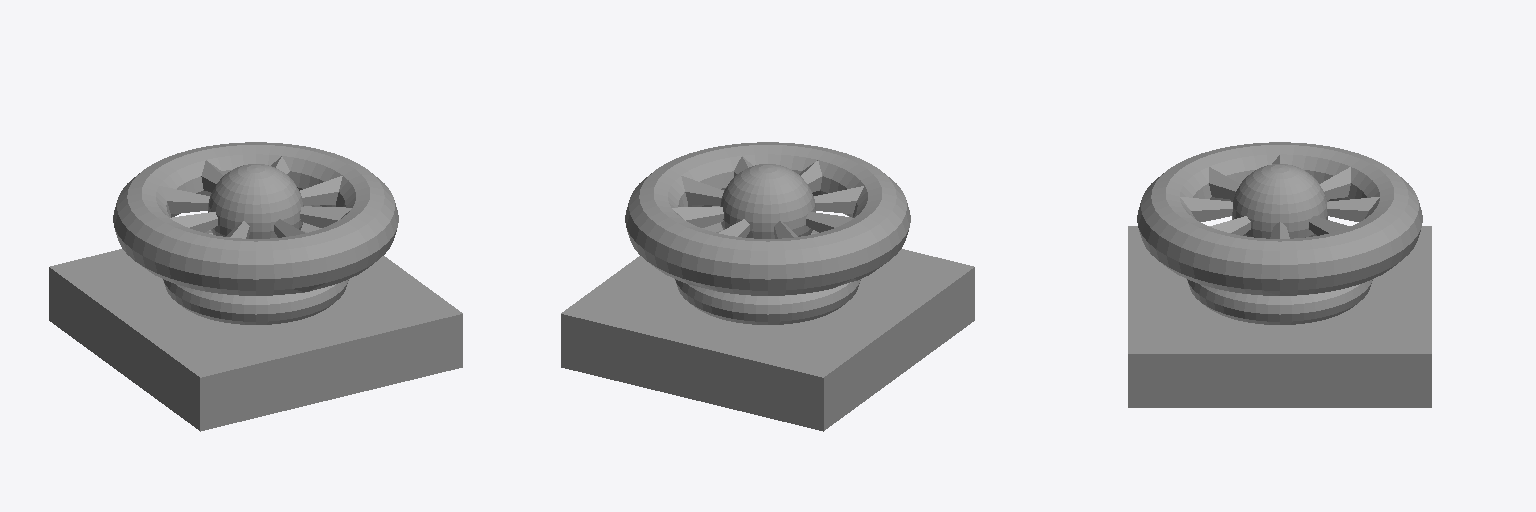
Rendered from fluid_ejector.obj.
3 renders of one model, left to right at view 1: azimuth 30°, elevation 25°; view 2: azimuth 150°, elevation 25°; view 3: azimuth 270°, elevation 25°, orthographic.
Visible parts, largest first — view 1: Cube_Cube.000, Torus.002, Sphere_Sphere.001, Torus; view 2: Cube_Cube.000, Torus.002, Sphere_Sphere.001, Torus; view 3: Cube_Cube.000, Torus.002, Sphere_Sphere.001, Torus.
Boxes of the visible parts, box(x1,y1,x2,y2) form: Cube_Cube.000: box(49, 206, 462, 431); Torus.002: box(113, 142, 398, 295); Sphere_Sphere.001: box(208, 164, 303, 238); Torus: box(163, 231, 348, 324); Cube_Cube.000: box(561, 206, 974, 431); Torus.002: box(625, 142, 910, 295); Sphere_Sphere.001: box(720, 164, 815, 238); Torus: box(675, 231, 860, 324); Cube_Cube.000: box(1128, 226, 1431, 407); Torus.002: box(1137, 142, 1422, 295); Sphere_Sphere.001: box(1232, 164, 1327, 238); Torus: box(1187, 279, 1372, 324).
Bounding box in the file's own units: 1.02 × 0.6545 × 1.02.